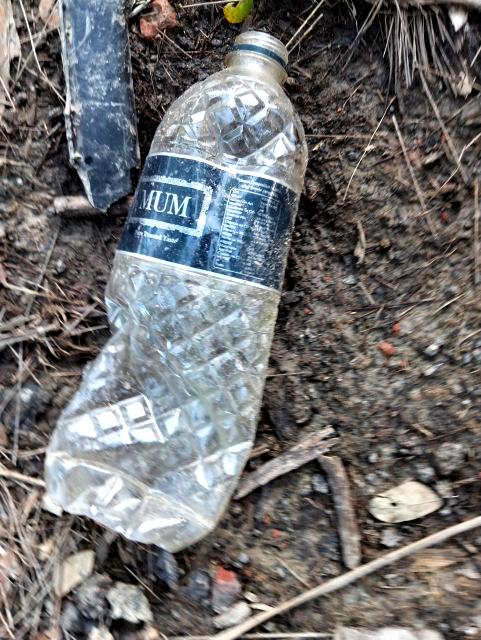bottle: (12, 14, 357, 578)
